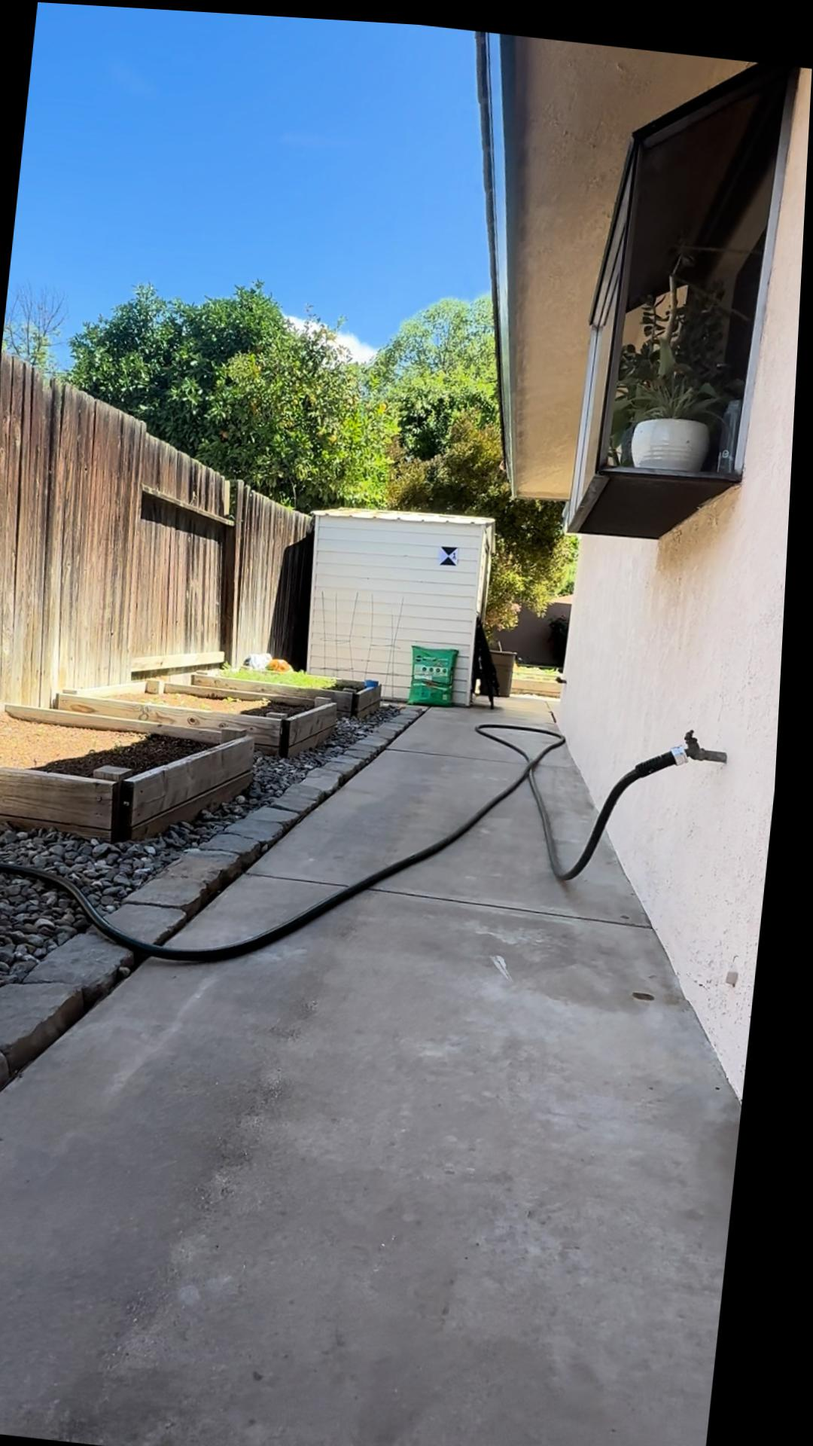target1: (437, 544, 460, 567)
